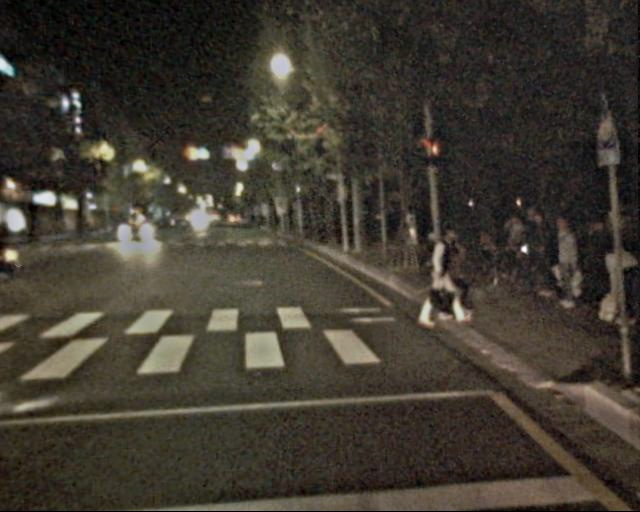person: (506, 209, 561, 295), (423, 226, 464, 327), (596, 231, 637, 330), (547, 215, 586, 309)
